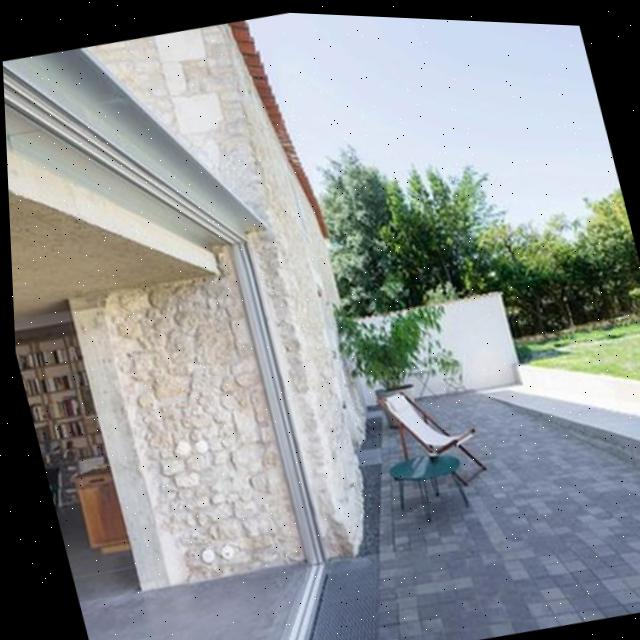building: (0, 2, 421, 637)
